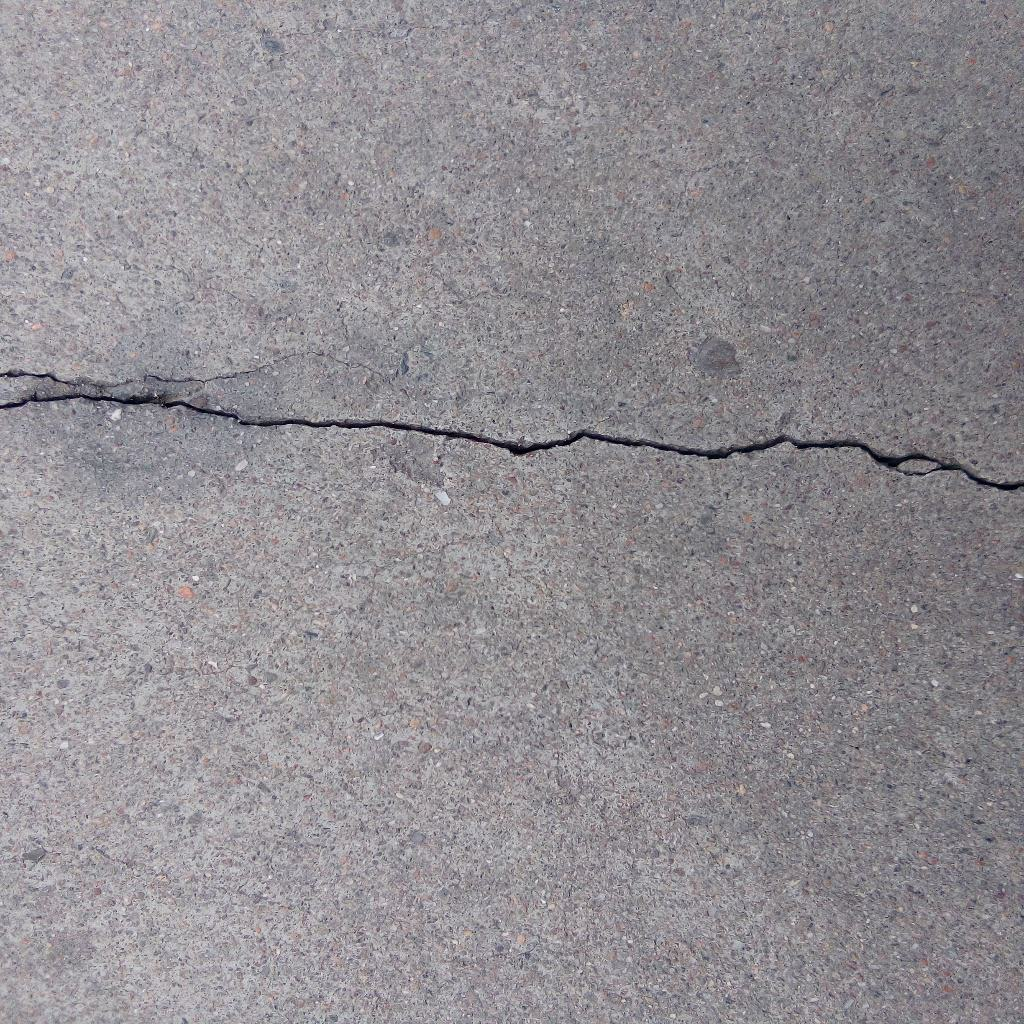Crack: (1, 393, 1024, 491), (1, 350, 384, 390)
